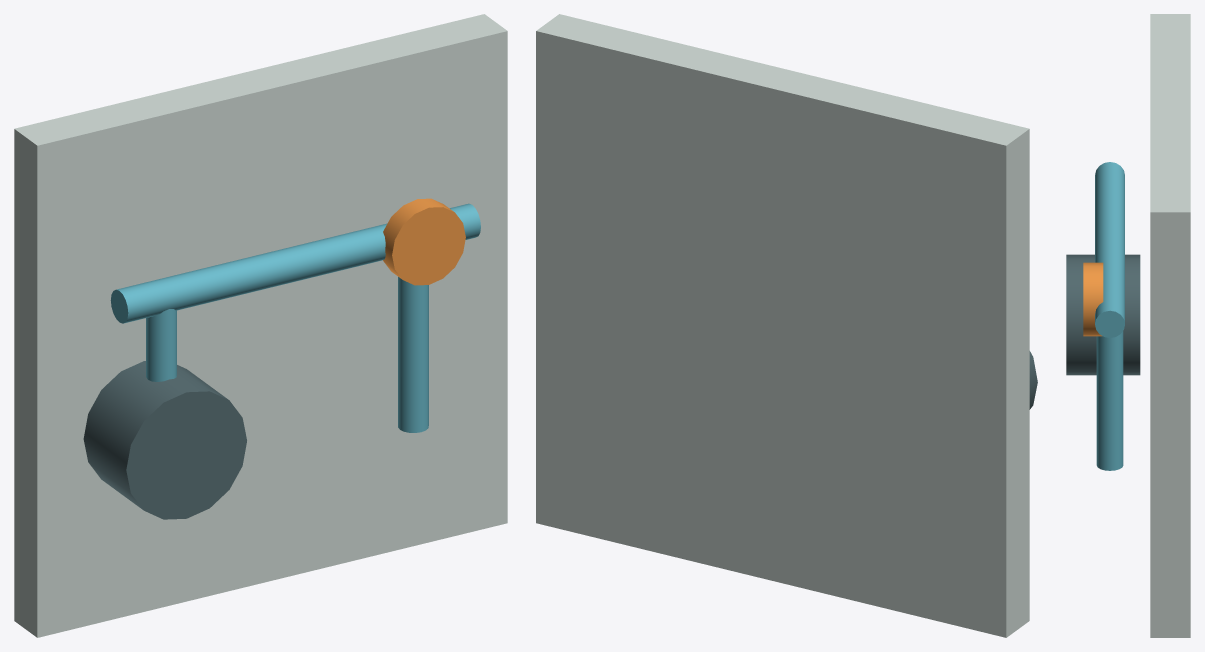
The model's file is irrigation-manifold.glb.
The picture shows the model from 3 angles, left to right: view 1: azimuth 30°, elevation 25°; view 2: azimuth 150°, elevation 25°; view 3: azimuth 270°, elevation 25°; orthographic projection. The views are drawn at different scales.
Parts seen in each view (by area): view 1: backboard, pump, return_line, pipe (×2), isolation_valve; view 2: backboard; view 3: backboard, pump, return_line, pipe, isolation_valve.
Boxes of the visible parts, <box> form: backboard: <box>14,14,507,637</box>; pump: <box>83,361,246,519</box>; return_line: <box>110,203,480,323</box>; pipe (×2): <box>146,277,428,432</box>; isolation_valve: <box>383,198,465,285</box>; backboard: <box>536,14,1029,637</box>; backboard: <box>1150,14,1190,637</box>; pump: <box>1066,254,1140,375</box>; return_line: <box>1095,162,1124,337</box>; pipe: <box>1096,331,1123,470</box>; isolation_valve: <box>1083,262,1103,336</box>.
Bounding box in the file's own units: 1.4 × 1.4 × 0.37.
